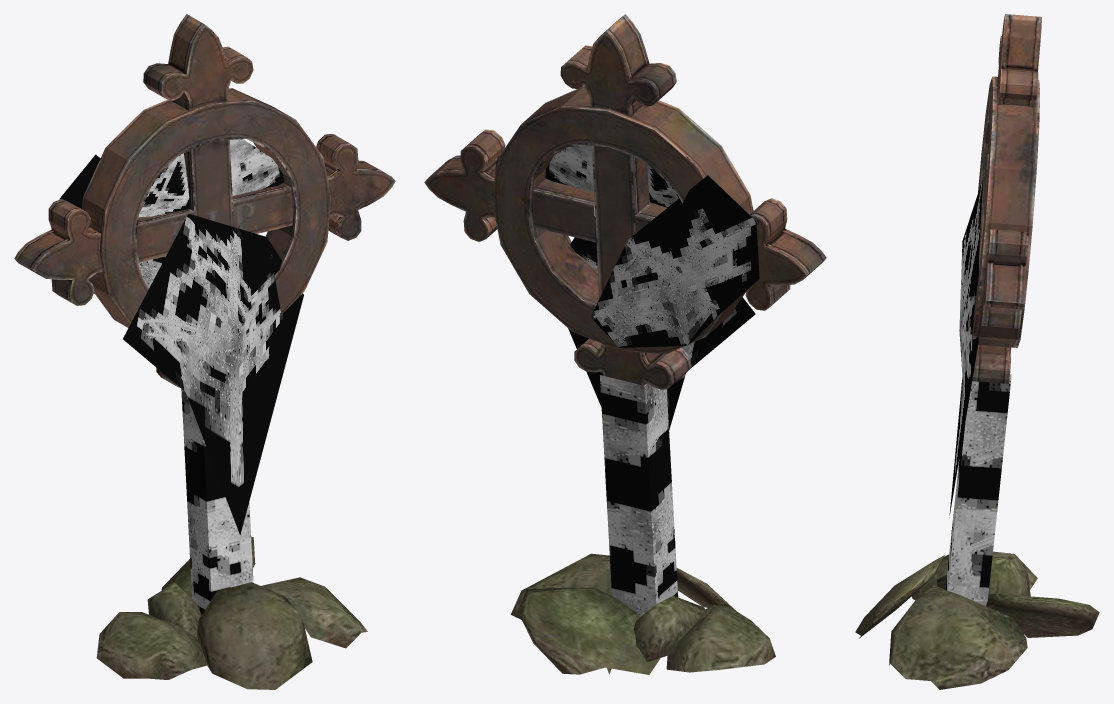
The model's file is halloween-metal-collectable.glb.
The picture shows the model from 3 angles, left to right: view 1: azimuth 30°, elevation 25°; view 2: azimuth 150°, elevation 25°; view 3: azimuth 270°, elevation 25°; orthographic projection. The views are drawn at different scales.
Parts seen in each view (by area): view 1: metal_cross_LOD0; view 2: metal_cross_LOD0; view 3: metal_cross_LOD0.
Boxes of the visible parts, x1=… form: metal_cross_LOD0: x1=14, y1=14, x2=395, y2=689; metal_cross_LOD0: x1=424, y1=14, x2=826, y2=674; metal_cross_LOD0: x1=855, y1=14, x2=1099, y2=689.
Bounding box in the file's own units: 0.7978 × 1.32 × 0.4591.
Materials: 3 (3 with a texture image).
